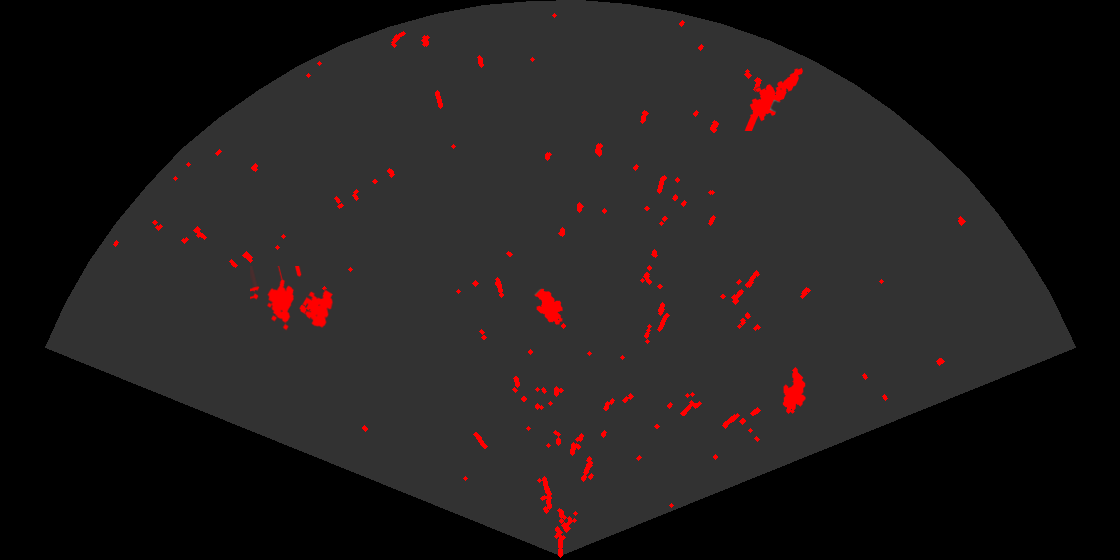AUV: (781, 365, 807, 416), (533, 287, 564, 326)
cage: (250, 266, 335, 332)
frogman: (743, 66, 805, 131)
